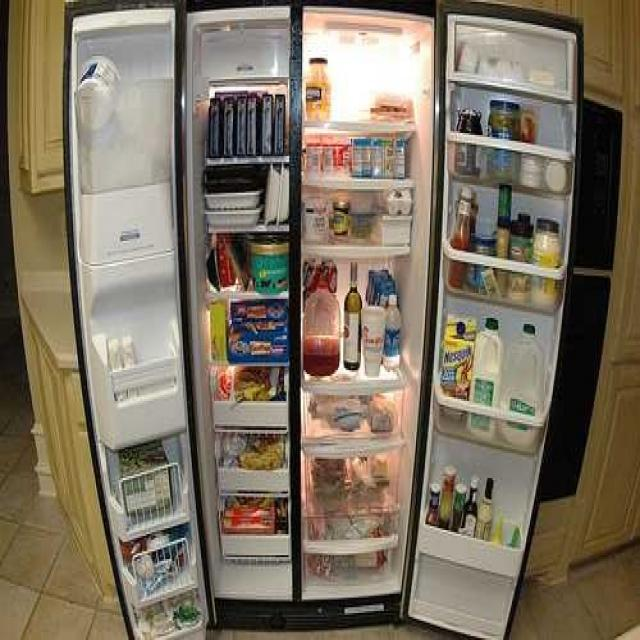refrigerator: (76, 0, 594, 640)
